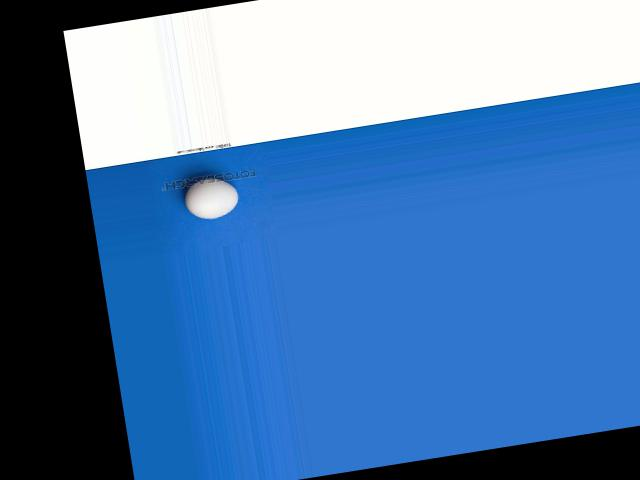egg: (181, 173, 240, 221)
